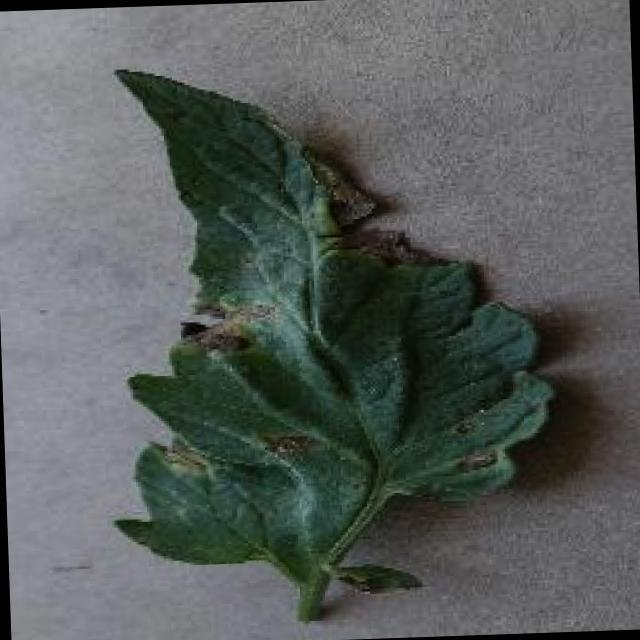Tomato Early blight leaf: (92, 48, 576, 569)
